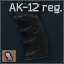AK-12 pistol grip: (0, 0, 64, 64)
